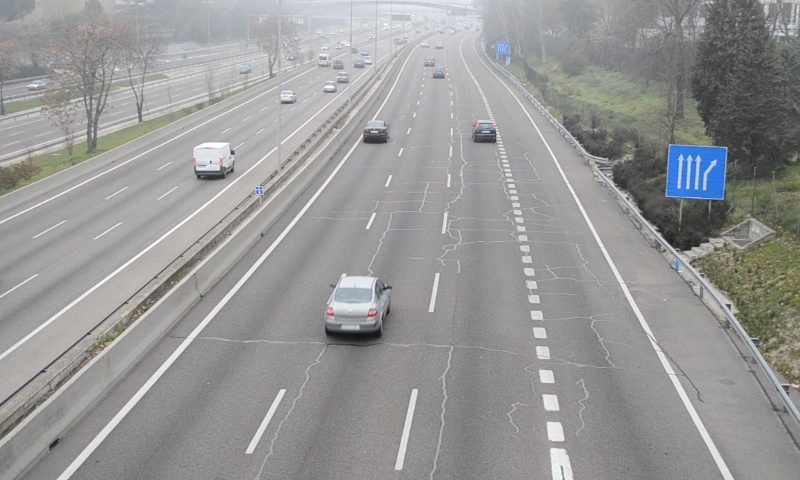car: (325, 276, 388, 336), (362, 120, 388, 141), (473, 121, 496, 140)
